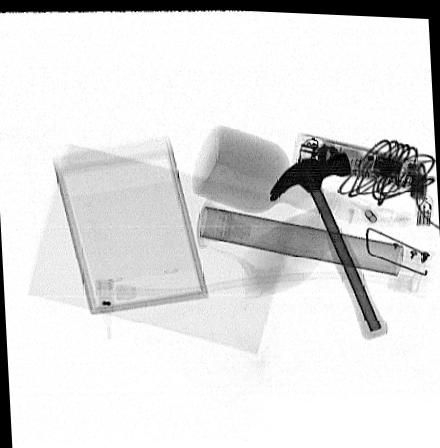Hammer: (265, 147, 387, 336)
